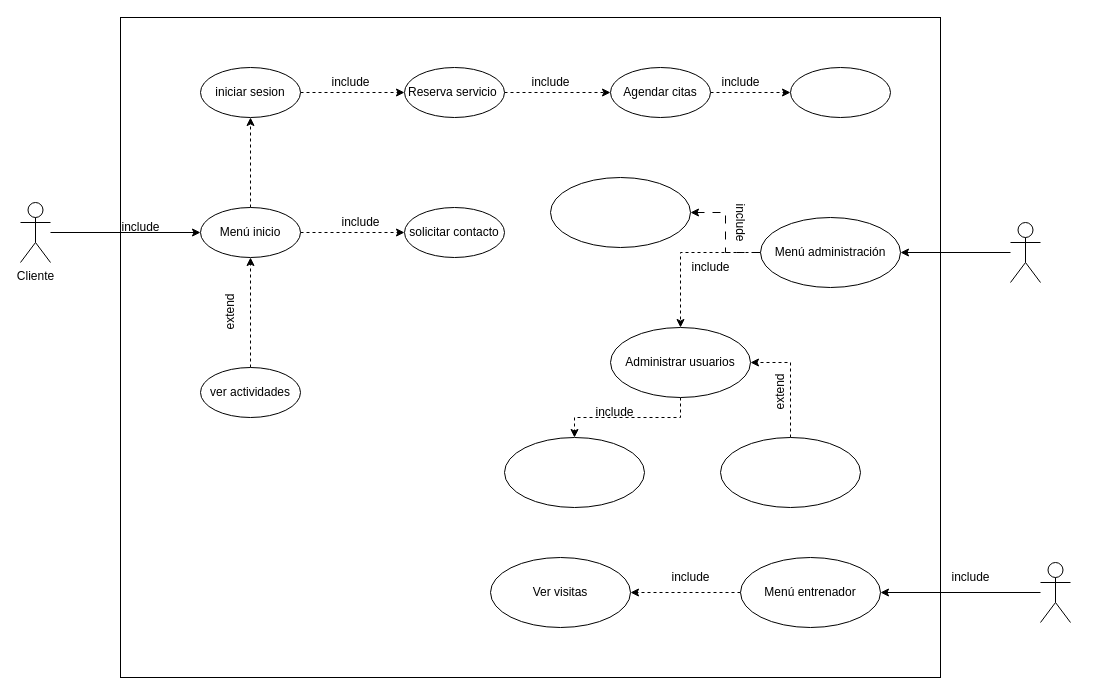
This 1102x695 diagram has some shape labels left out. Here are the shapes that lost their labels. From the top down, the centre of each, then its label:
At point (840, 92): "Realizar pago".
At point (620, 212): "Crear horas".
At point (1025, 252): "Admin".
At point (574, 472): "Crear usuario".
At point (790, 472): "Eliminar usuario".
At point (1055, 592): "Entrenador".
